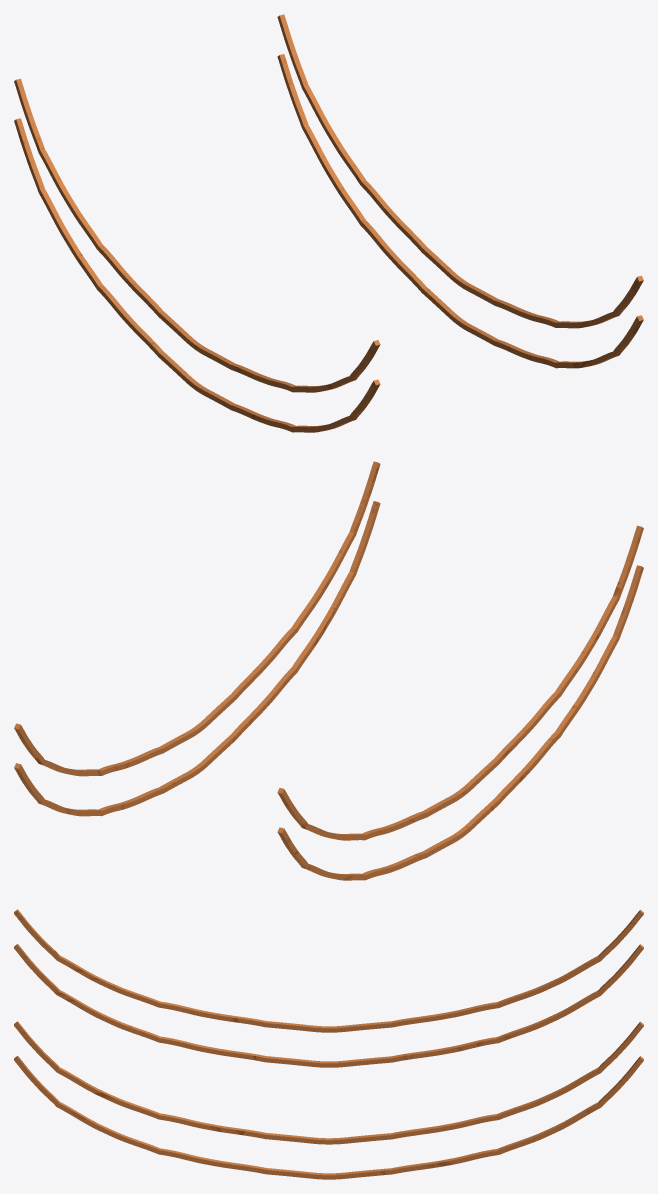
Rendered from Power Tower Line.fbx.
3 renders of one model, top to bottom at view 1: azimuth 30°, elevation 25°; view 2: azimuth 150°, elevation 25°; view 3: azimuth 270°, elevation 25°, orthographic. The views are drawn at different scales.
Visible parts, largest first — view 1: Power Lines; view 2: Power Lines; view 3: Power Lines.
Part boxes in pixels (x1,y1,x2,y2): Power Lines: [14, 14, 643, 432]; Power Lines: [14, 461, 643, 880]; Power Lines: [14, 909, 643, 1179].
Bounding box in the file's own units: 2823 × 6599 × 1808.
